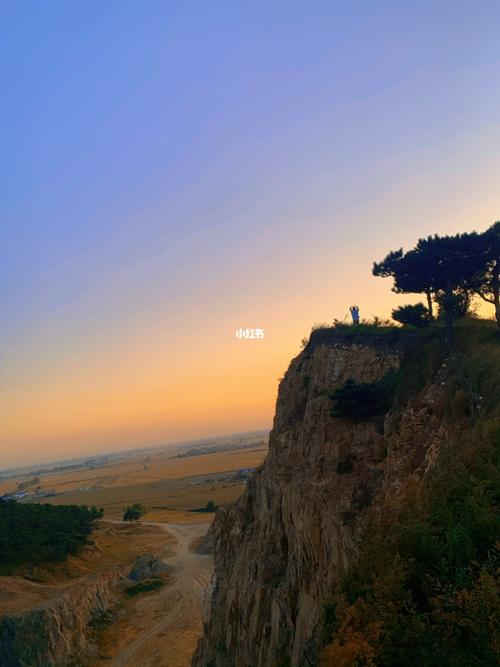mountain: (192, 336, 485, 635)
sky_cloud: (10, 105, 332, 311)
